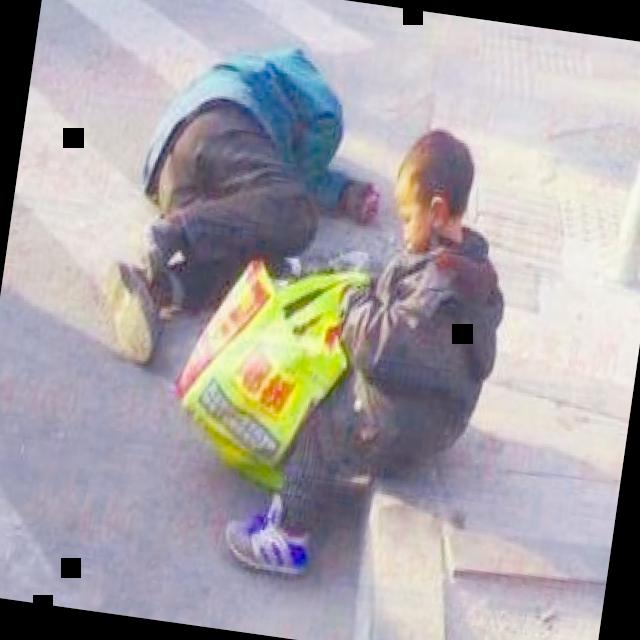Fall-Detected: (76, 0, 403, 395)
